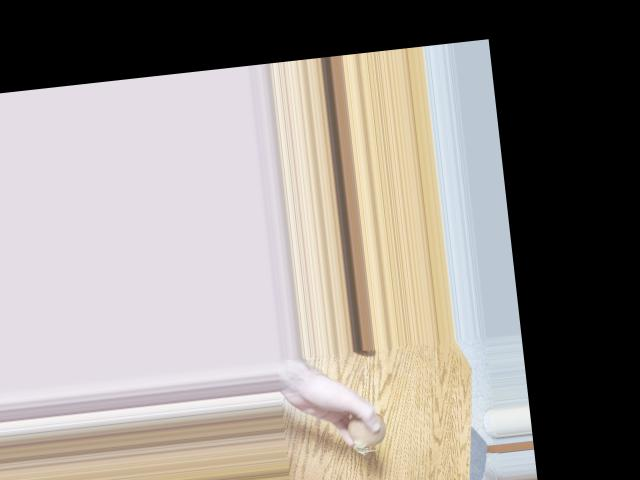onion: (352, 412, 385, 445)
